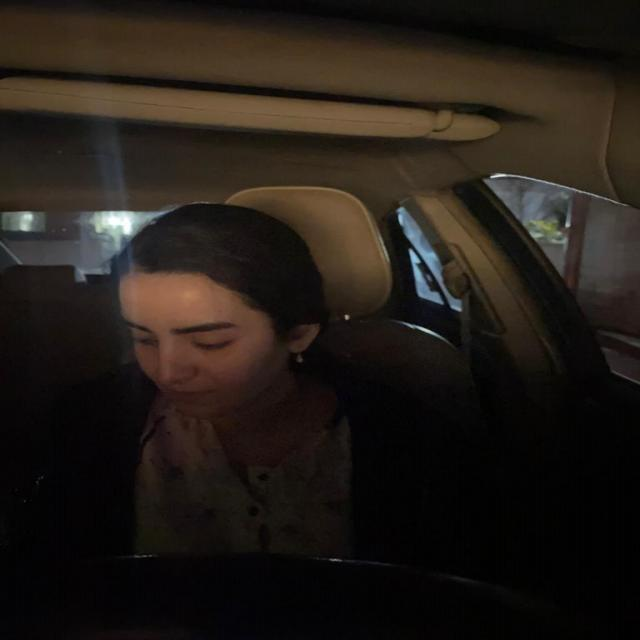person: (96, 194, 344, 425)
